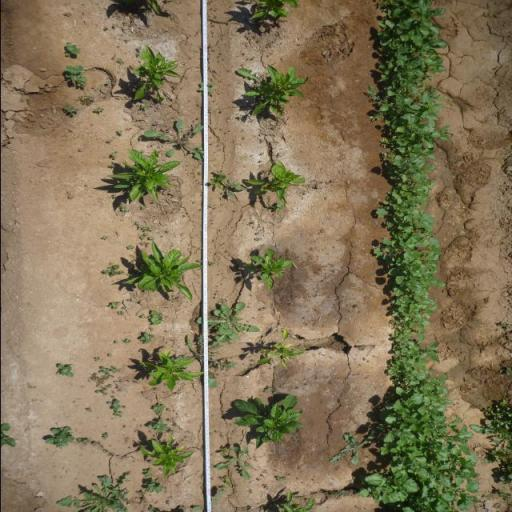plant: (122, 243, 202, 303), (241, 62, 312, 120), (109, 149, 183, 204), (229, 393, 304, 446), (128, 44, 183, 104), (240, 246, 294, 292), (246, 161, 305, 202), (138, 351, 202, 388), (142, 435, 194, 471), (256, 330, 305, 367), (246, 0, 301, 20)
weed: (362, 441, 482, 512), (372, 222, 446, 302), (365, 74, 452, 142), (371, 0, 451, 72), (383, 300, 443, 385), (374, 378, 451, 442), (375, 142, 438, 220), (52, 466, 131, 512), (140, 114, 205, 162), (207, 301, 259, 348), (190, 336, 236, 384), (470, 398, 512, 438), (326, 432, 368, 465), (216, 447, 256, 481), (481, 438, 512, 465), (42, 425, 76, 449), (189, 488, 222, 512), (87, 372, 116, 395), (63, 62, 88, 88), (222, 173, 247, 197), (140, 478, 165, 494), (145, 417, 169, 433), (99, 264, 126, 278), (54, 362, 74, 378), (497, 464, 512, 485), (146, 310, 164, 327), (197, 82, 216, 98), (64, 41, 82, 57), (61, 104, 80, 118), (133, 220, 153, 233), (208, 175, 226, 189), (138, 331, 156, 345), (491, 488, 512, 500), (105, 398, 121, 412), (151, 402, 167, 416), (218, 446, 239, 456), (76, 96, 94, 106), (262, 386, 280, 395), (105, 300, 120, 310), (497, 321, 512, 331), (272, 202, 286, 212), (141, 468, 155, 478), (497, 366, 511, 376), (219, 476, 231, 486), (98, 365, 111, 373), (136, 241, 150, 248), (92, 106, 104, 114), (138, 103, 150, 111), (108, 151, 118, 160), (75, 438, 90, 444), (134, 45, 142, 56), (138, 232, 148, 240), (110, 364, 118, 374), (274, 476, 287, 482), (114, 129, 123, 136), (147, 505, 156, 512), (106, 163, 116, 169), (118, 206, 128, 212), (125, 244, 135, 250), (122, 338, 132, 344), (101, 432, 108, 440), (113, 411, 122, 417), (83, 407, 92, 413), (137, 314, 147, 319), (206, 261, 216, 266), (93, 356, 101, 362), (116, 311, 125, 315), (196, 258, 202, 264), (101, 235, 108, 240), (116, 58, 123, 62), (106, 140, 112, 144)
